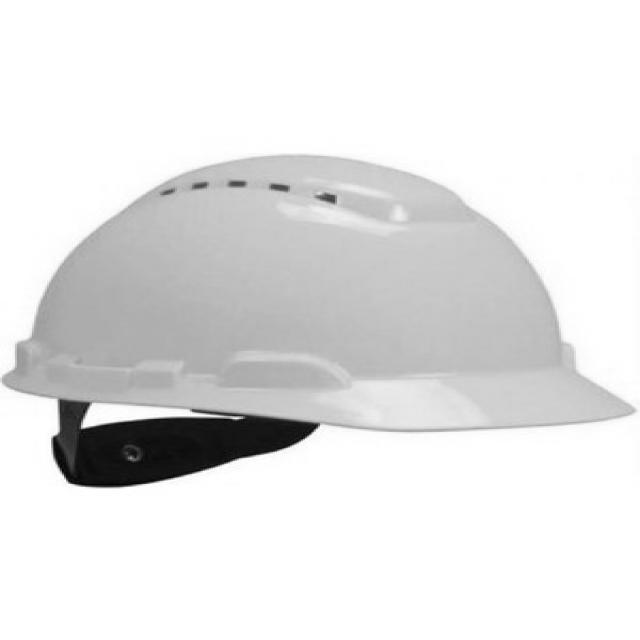safety_helmet: (2, 155, 636, 490)
